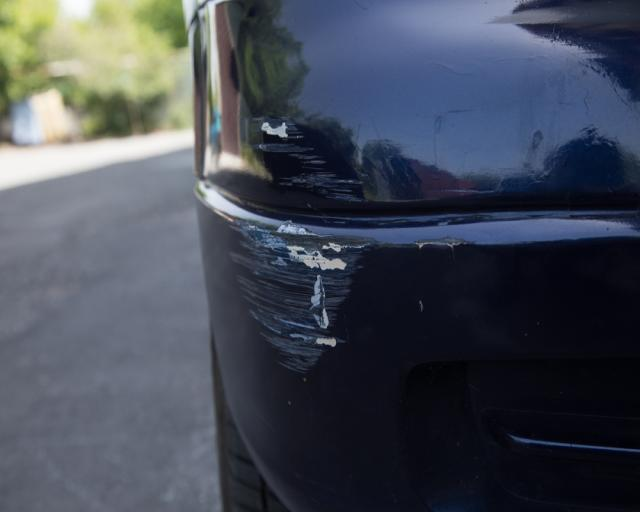scratch: (226, 215, 372, 379), (255, 105, 370, 208)
